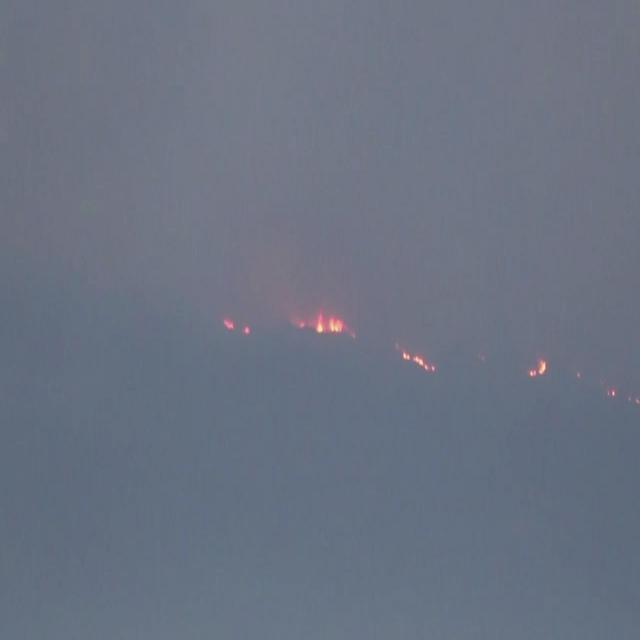Fire: (296, 310, 354, 338), (401, 351, 435, 374), (529, 356, 547, 381), (222, 318, 234, 330)
